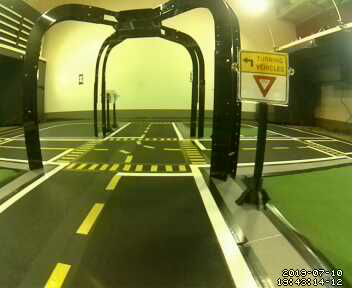Turn Yield: (238, 49, 290, 106)
